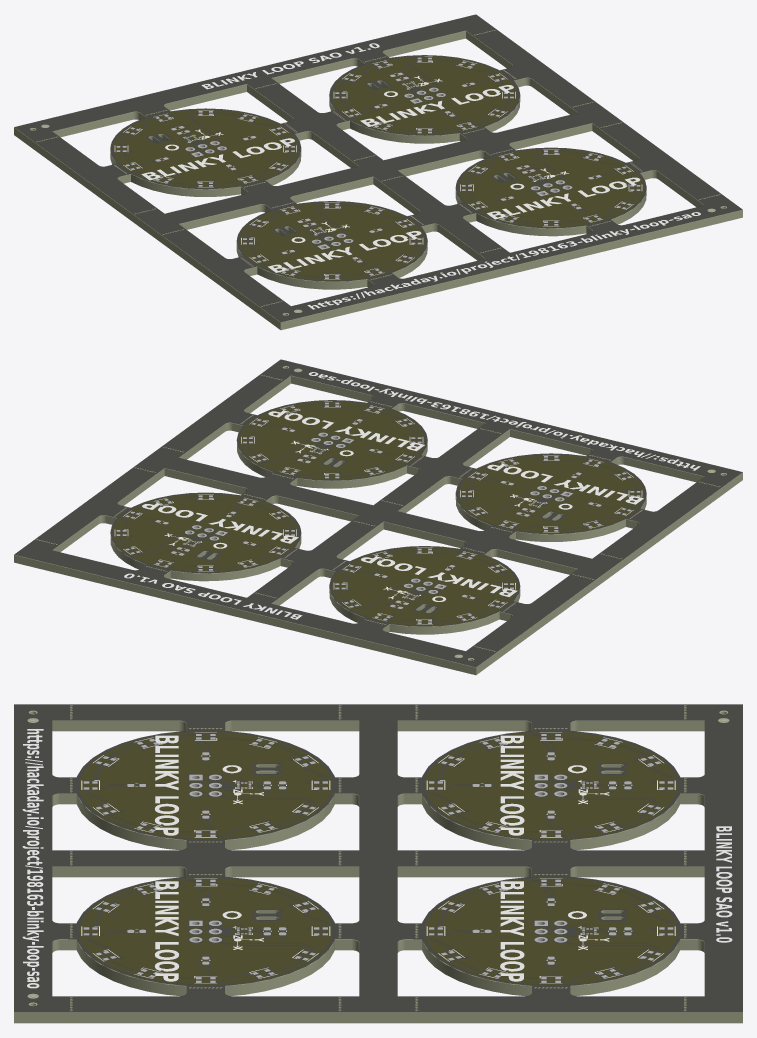
File: blinky-loop-sao.glb
3 views of the same model, one above another, from view 1: azimuth 30°, elevation 25°; view 2: azimuth 150°, elevation 25°; view 3: azimuth 270°, elevation 25° (orthographic). The views are drawn at different scales.
Visible parts, largest first — view 1: =>[0:1:1:7], =>[0:1:1:9], =>[0:1:1:2], =>[0:1:1:5]; view 2: =>[0:1:1:7], =>[0:1:1:9], =>[0:1:1:2], =>[0:1:1:5]; view 3: =>[0:1:1:7], =>[0:1:1:9], =>[0:1:1:2], =>[0:1:1:5].
Part boxes in pixels (bbox=[...]): =>[0:1:1:7]: bbox=[14, 14, 742, 322]; =>[0:1:1:9]: bbox=[14, 15, 742, 330]; =>[0:1:1:2]: bbox=[44, 57, 712, 312]; =>[0:1:1:5]: bbox=[114, 43, 700, 309]; =>[0:1:1:7]: bbox=[14, 359, 742, 667]; =>[0:1:1:9]: bbox=[14, 360, 742, 675]; =>[0:1:1:2]: bbox=[114, 370, 712, 657]; =>[0:1:1:5]: bbox=[114, 372, 700, 624]; =>[0:1:1:7]: bbox=[14, 704, 742, 1012]; =>[0:1:1:9]: bbox=[14, 705, 742, 1023]; =>[0:1:1:2]: bbox=[31, 720, 725, 997]; =>[0:1:1:5]: bbox=[22, 729, 732, 988].
Bounding box in the file's own units: 0.095 × 0.00166 × 0.095.
Materials: 4 (4 with a texture image).
